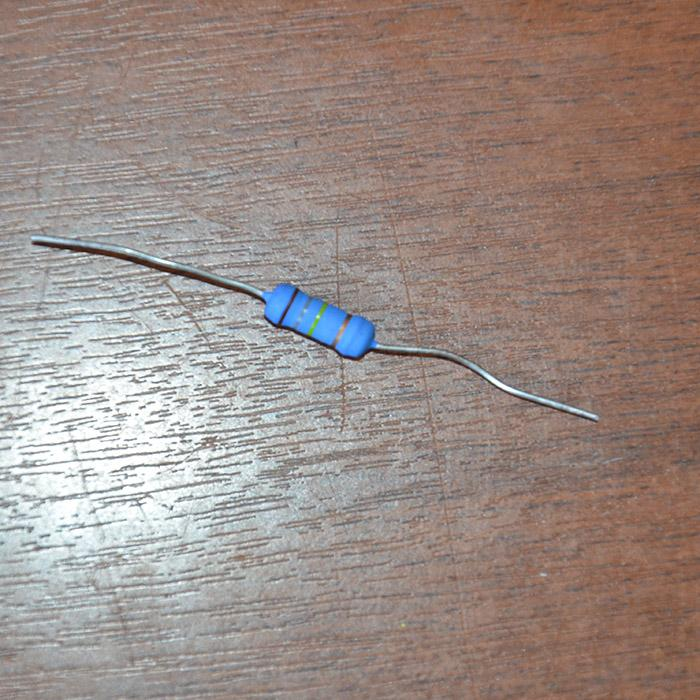resistor: (260, 281, 377, 359)
